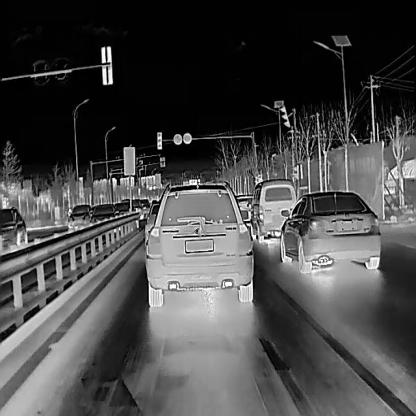car: (144, 180, 253, 308), (278, 188, 381, 272), (250, 178, 297, 242), (0, 206, 27, 258), (67, 202, 92, 234), (89, 202, 116, 231), (114, 200, 130, 221)
